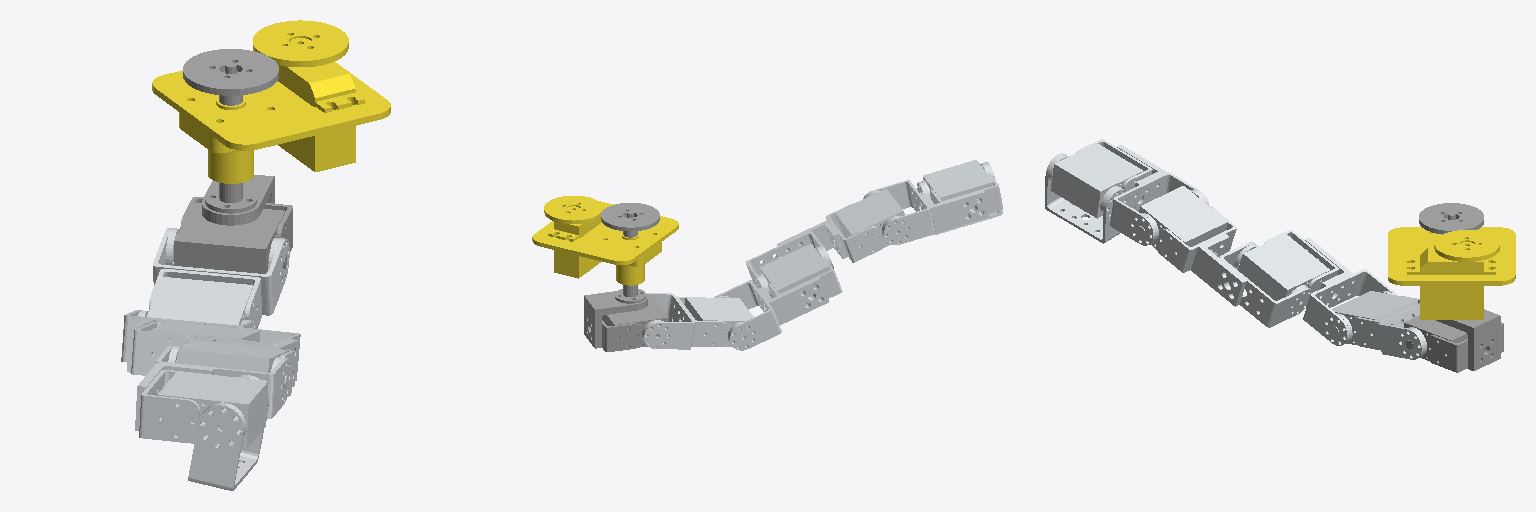
The robot description file, URDF, robot "puma":
<?xml version="1.0" encoding="utf-8"?>
<!-- This URDF was automatically created by SolidWorks to URDF Exporter! Originally created by [author] ([email redacted]) 
     Commit Version: 1.6.0-4-g7f85cfe  Build Version: 1.6.7995.38578
     For more information, please see http://wiki.ros.org/sw_urdf_exporter -->
<robot
  name="puma">
  <link
    name="base_link">
    <inertial>
      <origin
        xyz="0.0084167 -0.0040666 -0.00054972"
        rpy="0 0 0" />
      <mass
        value="0.1218" />
      <inertia
        ixx="4.2685E-05"
        ixy="-6.9306E-23"
        ixz="2.4359E-21"
        iyy="5.7023E-05"
        iyz="2.418E-07"
        izz="3.3248E-05" />
    </inertial>
    <visual>
      <origin
        xyz="0 0 0"
        rpy="0 0 0" />
      <geometry>
        <mesh
          filename="package://puma/meshes/base_link.STL" />
      </geometry>
      <material
        name="">
        <color
          rgba="1 0.91373 0.24706 1" />
      </material>
    </visual>
    <collision>
      <origin
        xyz="0 0 0"
        rpy="0 0 0" />
      <geometry>
        <mesh
          filename="package://puma/meshes/base_link.STL" />
      </geometry>
    </collision>
  </link>
  <link
    name="Link1">
    <inertial>
      <origin
        xyz="-0.0012664 -3.4407E-05 0.047332"
        rpy="0 0 0" />
      <mass
        value="0.11358" />
      <inertia
        ixx="1.9493E-05"
        ixy="3.7239E-08"
        ixz="4.4045E-07"
        iyy="1.7784E-05"
        iyz="-4.487E-19"
        izz="2.3849E-05" />
    </inertial>
    <visual>
      <origin
        xyz="0 0 0"
        rpy="0 0 0" />
      <geometry>
        <mesh
          filename="package://puma/meshes/Link1.STL" />
      </geometry>
      <material
        name="">
        <color
          rgba="0.69804 0.69804 0.69804 1" />
      </material>
    </visual>
    <collision>
      <origin
        xyz="0 0 0"
        rpy="0 0 0" />
      <geometry>
        <mesh
          filename="package://puma/meshes/Link1.STL" />
      </geometry>
    </collision>
  </link>
  <joint
    name="Joint1"
    type="continuous">
    <origin
      xyz="-0.02 0 0"
      rpy="3.1416 0 -2.3041" />
    <parent
      link="base_link" />
    <child
      link="Link1" />
    <axis
      xyz="0 0 1" />
    <limit
      lower="-0.785"
      upper="0.785"
      effort="0"
      velocity="0" />
  </joint>
  <link
    name="Link2">
    <inertial>
      <origin
        xyz="-1.1519E-15 0.044669 -7.8627E-06"
        rpy="0 0 0" />
      <mass
        value="0.089477" />
      <inertia
        ixx="2.6927E-05"
        ixy="8.6821E-21"
        ixz="6.8324E-19"
        iyy="1.9359E-05"
        iyz="3.7239E-08"
        izz="1.3371E-05" />
    </inertial>
    <visual>
      <origin
        xyz="0 0 0"
        rpy="0 0 0" />
      <geometry>
        <mesh
          filename="package://puma/meshes/Link2.STL" />
      </geometry>
      <material
        name="">
        <color
          rgba="0.89804 0.91765 0.92941 1" />
      </material>
    </visual>
    <collision>
      <origin
        xyz="0 0 0"
        rpy="0 0 0" />
      <geometry>
        <mesh
          filename="package://puma/meshes/Link2.STL" />
      </geometry>
    </collision>
  </link>
  <joint
    name="Joint2"
    type="continuous">
    <origin
      xyz="0.01165 0 0.0635"
      rpy="1.5708 -1.4104 3.1416" />
    <parent
      link="Link1" />
    <child
      link="Link2" />
    <axis
      xyz="0 0 1" />
  </joint>
  <link
    name="Link3">
    <inertial>
      <origin
        xyz="0.030553 0.10452 -0.07322"
        rpy="0 0 0" />
      <mass
        value="0.092872" />
      <inertia
        ixx="2.761E-05"
        ixy="-6.0139E-19"
        ixz="-2.4458E-19"
        iyy="1.7178E-05"
        iyz="-1.1758E-07"
        izz="1.6478E-05" />
    </inertial>
    <visual>
      <origin
        xyz="0 0 0"
        rpy="0 0 0" />
      <geometry>
        <mesh
          filename="package://puma/meshes/Link3.STL" />
      </geometry>
      <material
        name="">
        <color
          rgba="0.89804 0.91765 0.92941 1" />
      </material>
    </visual>
    <collision>
      <origin
        xyz="0 0 0"
        rpy="0 0 0" />
      <geometry>
        <mesh
          filename="package://puma/meshes/Link3.STL" />
      </geometry>
    </collision>
  </link>
  <joint
    name="Joint3"
    type="continuous">
    <origin
      xyz="0 0 0.062678"
      rpy="0 0 0.50067" />
    <parent
      link="Link2" />
    <child
      link="Link3" />
    <axis
      xyz="0 0 1" />
  </joint>
  <link
    name="Link4">
    <inertial>
      <origin
        xyz="-1.8013E-14 0.015686 -0.037749"
        rpy="0 0 0" />
      <mass
        value="0.092872" />
      <inertia
        ixx="2.761E-05"
        ixy="9.455E-19"
        ixz="-1.2621E-19"
        iyy="1.7538E-05"
        iyz="-1.1758E-07"
        izz="1.6118E-05" />
    </inertial>
    <visual>
      <origin
        xyz="0 0 0"
        rpy="0 0 0" />
      <geometry>
        <mesh
          filename="package://puma/meshes/Link4.STL" />
      </geometry>
      <material
        name="">
        <color
          rgba="0.89804 0.91765 0.92941 1" />
      </material>
    </visual>
    <collision>
      <origin
        xyz="0 0 0"
        rpy="0 0 0" />
      <geometry>
        <mesh
          filename="package://puma/meshes/Link4.STL" />
      </geometry>
    </collision>
  </link>
  <joint
    name="Joint4"
    type="continuous">
    <origin
      xyz="0.030553 0.12727 -0.088328"
      rpy="-1.5708 0.016547 3.1416" />
    <parent
      link="Link3" />
    <child
      link="Link4" />
    <axis
      xyz="0 0 1" />
  </joint>
  <link
    name="Link5">
    <inertial>
      <origin
        xyz="3.6832E-14 0.048595 -0.018266"
        rpy="0 0 0" />
      <mass
        value="0.092872" />
      <inertia
        ixx="2.761E-05"
        ixy="-8.1178E-19"
        ixz="3.7449E-19"
        iyy="1.7178E-05"
        iyz="-1.9206E-07"
        izz="1.6478E-05" />
    </inertial>
    <visual>
      <origin
        xyz="0 0 0"
        rpy="0 0 0" />
      <geometry>
        <mesh
          filename="package://puma/meshes/Link5.STL" />
      </geometry>
      <material
        name="">
        <color
          rgba="0.89804 0.91765 0.92941 1" />
      </material>
    </visual>
    <collision>
      <origin
        xyz="0 0 0"
        rpy="0 0 0" />
      <geometry>
        <mesh
          filename="package://puma/meshes/Link5.STL" />
      </geometry>
    </collision>
  </link>
  <joint
    name="Joint5"
    type="continuous">
    <origin
      xyz="0 0 -0.06222"
      rpy="-1.5708 -0.16951 -3.1416" />
    <parent
      link="Link4" />
    <child
      link="Link5" />
    <axis
      xyz="0 0 1" />
  </joint>
  <link
    name="Link6">
    <inertial>
      <origin
        xyz="5.7315E-15 0.012025 -0.00465"
        rpy="0 0 0" />
      <mass
        value="0.016021" />
      <inertia
        ixx="6.138E-06"
        ixy="-6.1939E-21"
        ixz="8.9997E-21"
        iyy="5.3342E-06"
        iyz="2.4882E-21"
        izz="1.8104E-06" />
    </inertial>
    <visual>
      <origin
        xyz="0 0 0"
        rpy="0 0 0" />
      <geometry>
        <mesh
          filename="package://puma/meshes/Link6.STL" />
      </geometry>
      <material
        name="">
        <color
          rgba="0.89804 0.91765 0.92941 1" />
      </material>
    </visual>
    <collision>
      <origin
        xyz="0 0 0"
        rpy="0 0 0" />
      <geometry>
        <mesh
          filename="package://puma/meshes/Link6.STL" />
      </geometry>
    </collision>
  </link>
  <joint
    name="Joint6"
    type="continuous">
    <origin
      xyz="0 0.05255 -0.03165"
      rpy="1.5708 1.4408 0" />
    <parent
      link="Link5" />
    <child
      link="Link6" />
    <axis
      xyz="0 0 1" />
  </joint>
</robot>

--- What the picture shows (computed from the rendered views, not written in the file) ---
Views: 3 orthographic renders of the robot side by side, from view 1: azimuth 30°, elevation 25°; view 2: azimuth 150°, elevation 25°; view 3: azimuth 270°, elevation 25°.
Robot: puma — 7 links, 6 joints (6 continuous); root link base_link; default pose: every joint at zero.
Links seen in each view (by area): view 1: base_link, Link1, Link5, Link2, Link6, Link3, Link4; view 2: base_link, Link3, Link5, Link1, Link4, Link2; view 3: base_link, Link4, Link3, Link5, Link1, Link2, Link6.
Boxes of the visible links, x1=… form: base_link: x1=152, y1=20, x2=390, y2=183; Link1: x1=174, y1=49, x2=292, y2=273; Link5: x1=135, y1=345, x2=290, y2=448; Link2: x1=147, y1=228, x2=289, y2=325; Link6: x1=188, y1=375, x2=269, y2=490; Link3: x1=121, y1=310, x2=260, y2=375; Link4: x1=177, y1=327, x2=300, y2=396; base_link: x1=532, y1=196, x2=678, y2=285; Link3: x1=714, y1=244, x2=842, y2=350; Link5: x1=863, y1=160, x2=1002, y2=244; Link1: x1=584, y1=203, x2=668, y2=351; Link4: x1=746, y1=188, x2=904, y2=297; Link2: x1=642, y1=293, x2=753, y2=349; base_link: x1=1388, y1=227, x2=1515, y2=319; Link4: x1=1138, y1=186, x2=1312, y2=327; Link3: x1=1238, y1=230, x2=1397, y2=345; Link5: x1=1050, y1=139, x2=1209, y2=245; Link1: x1=1404, y1=203, x2=1503, y2=372; Link2: x1=1332, y1=291, x2=1426, y2=359; Link6: x1=1045, y1=153, x2=1125, y2=243.
Bounding box of the posed robot: 0.2332 × 0.2949 × 0.1067 m (x, y, z).
Meshes: 7 distinct files referenced, 7 mesh visuals loaded (7 binary STL).